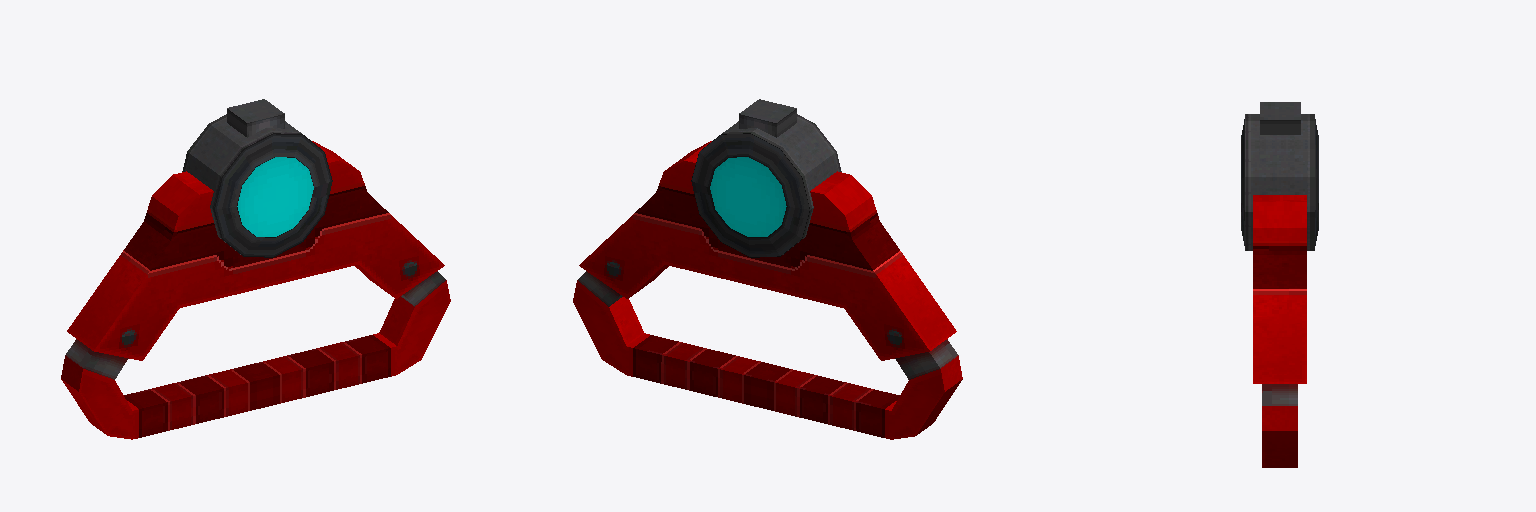
3 renders of one model, left to right at view 1: azimuth 30°, elevation 25°; view 2: azimuth 150°, elevation 25°; view 3: azimuth 270°, elevation 25°, orthographic.
Parts seen in each view (by area): view 1: polygon0, polygon1; view 2: polygon0, polygon1; view 3: polygon0.
Boxes of the visible parts, box(x1,y1,x2,y2) form: polygon0: box(61, 99, 450, 439); polygon1: box(237, 157, 313, 236); polygon0: box(573, 99, 962, 439); polygon1: box(710, 157, 786, 236); polygon0: box(1241, 102, 1318, 467).
Bounding box in the file's own units: 9.41 × 7 × 1.72.
2 materials, 1 textured.